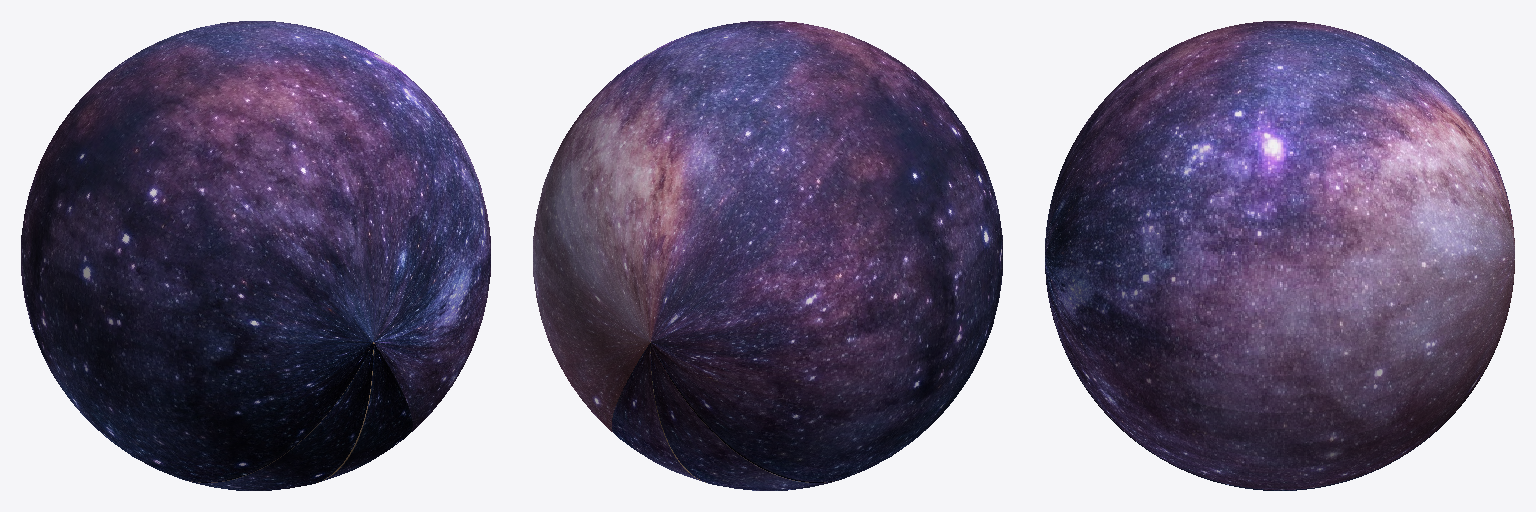
The picture shows the model from 3 angles: view 1: azimuth 30°, elevation 25°; view 2: azimuth 150°, elevation 25°; view 3: azimuth 270°, elevation 25°; orthographic projection.
Parts seen in each view (by area): view 1: Plane; view 2: Plane; view 3: Plane.
Boxes of the visible parts, box(x1,y1,x2,y2) form: Plane: box(21, 21, 490, 490); Plane: box(533, 21, 1002, 490); Plane: box(1045, 21, 1514, 490).
Bounding box in the file's own units: 5.21 × 5.21 × 5.21.
1 materials, 1 textured.